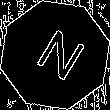N_SW: (25, 23, 85, 87)
